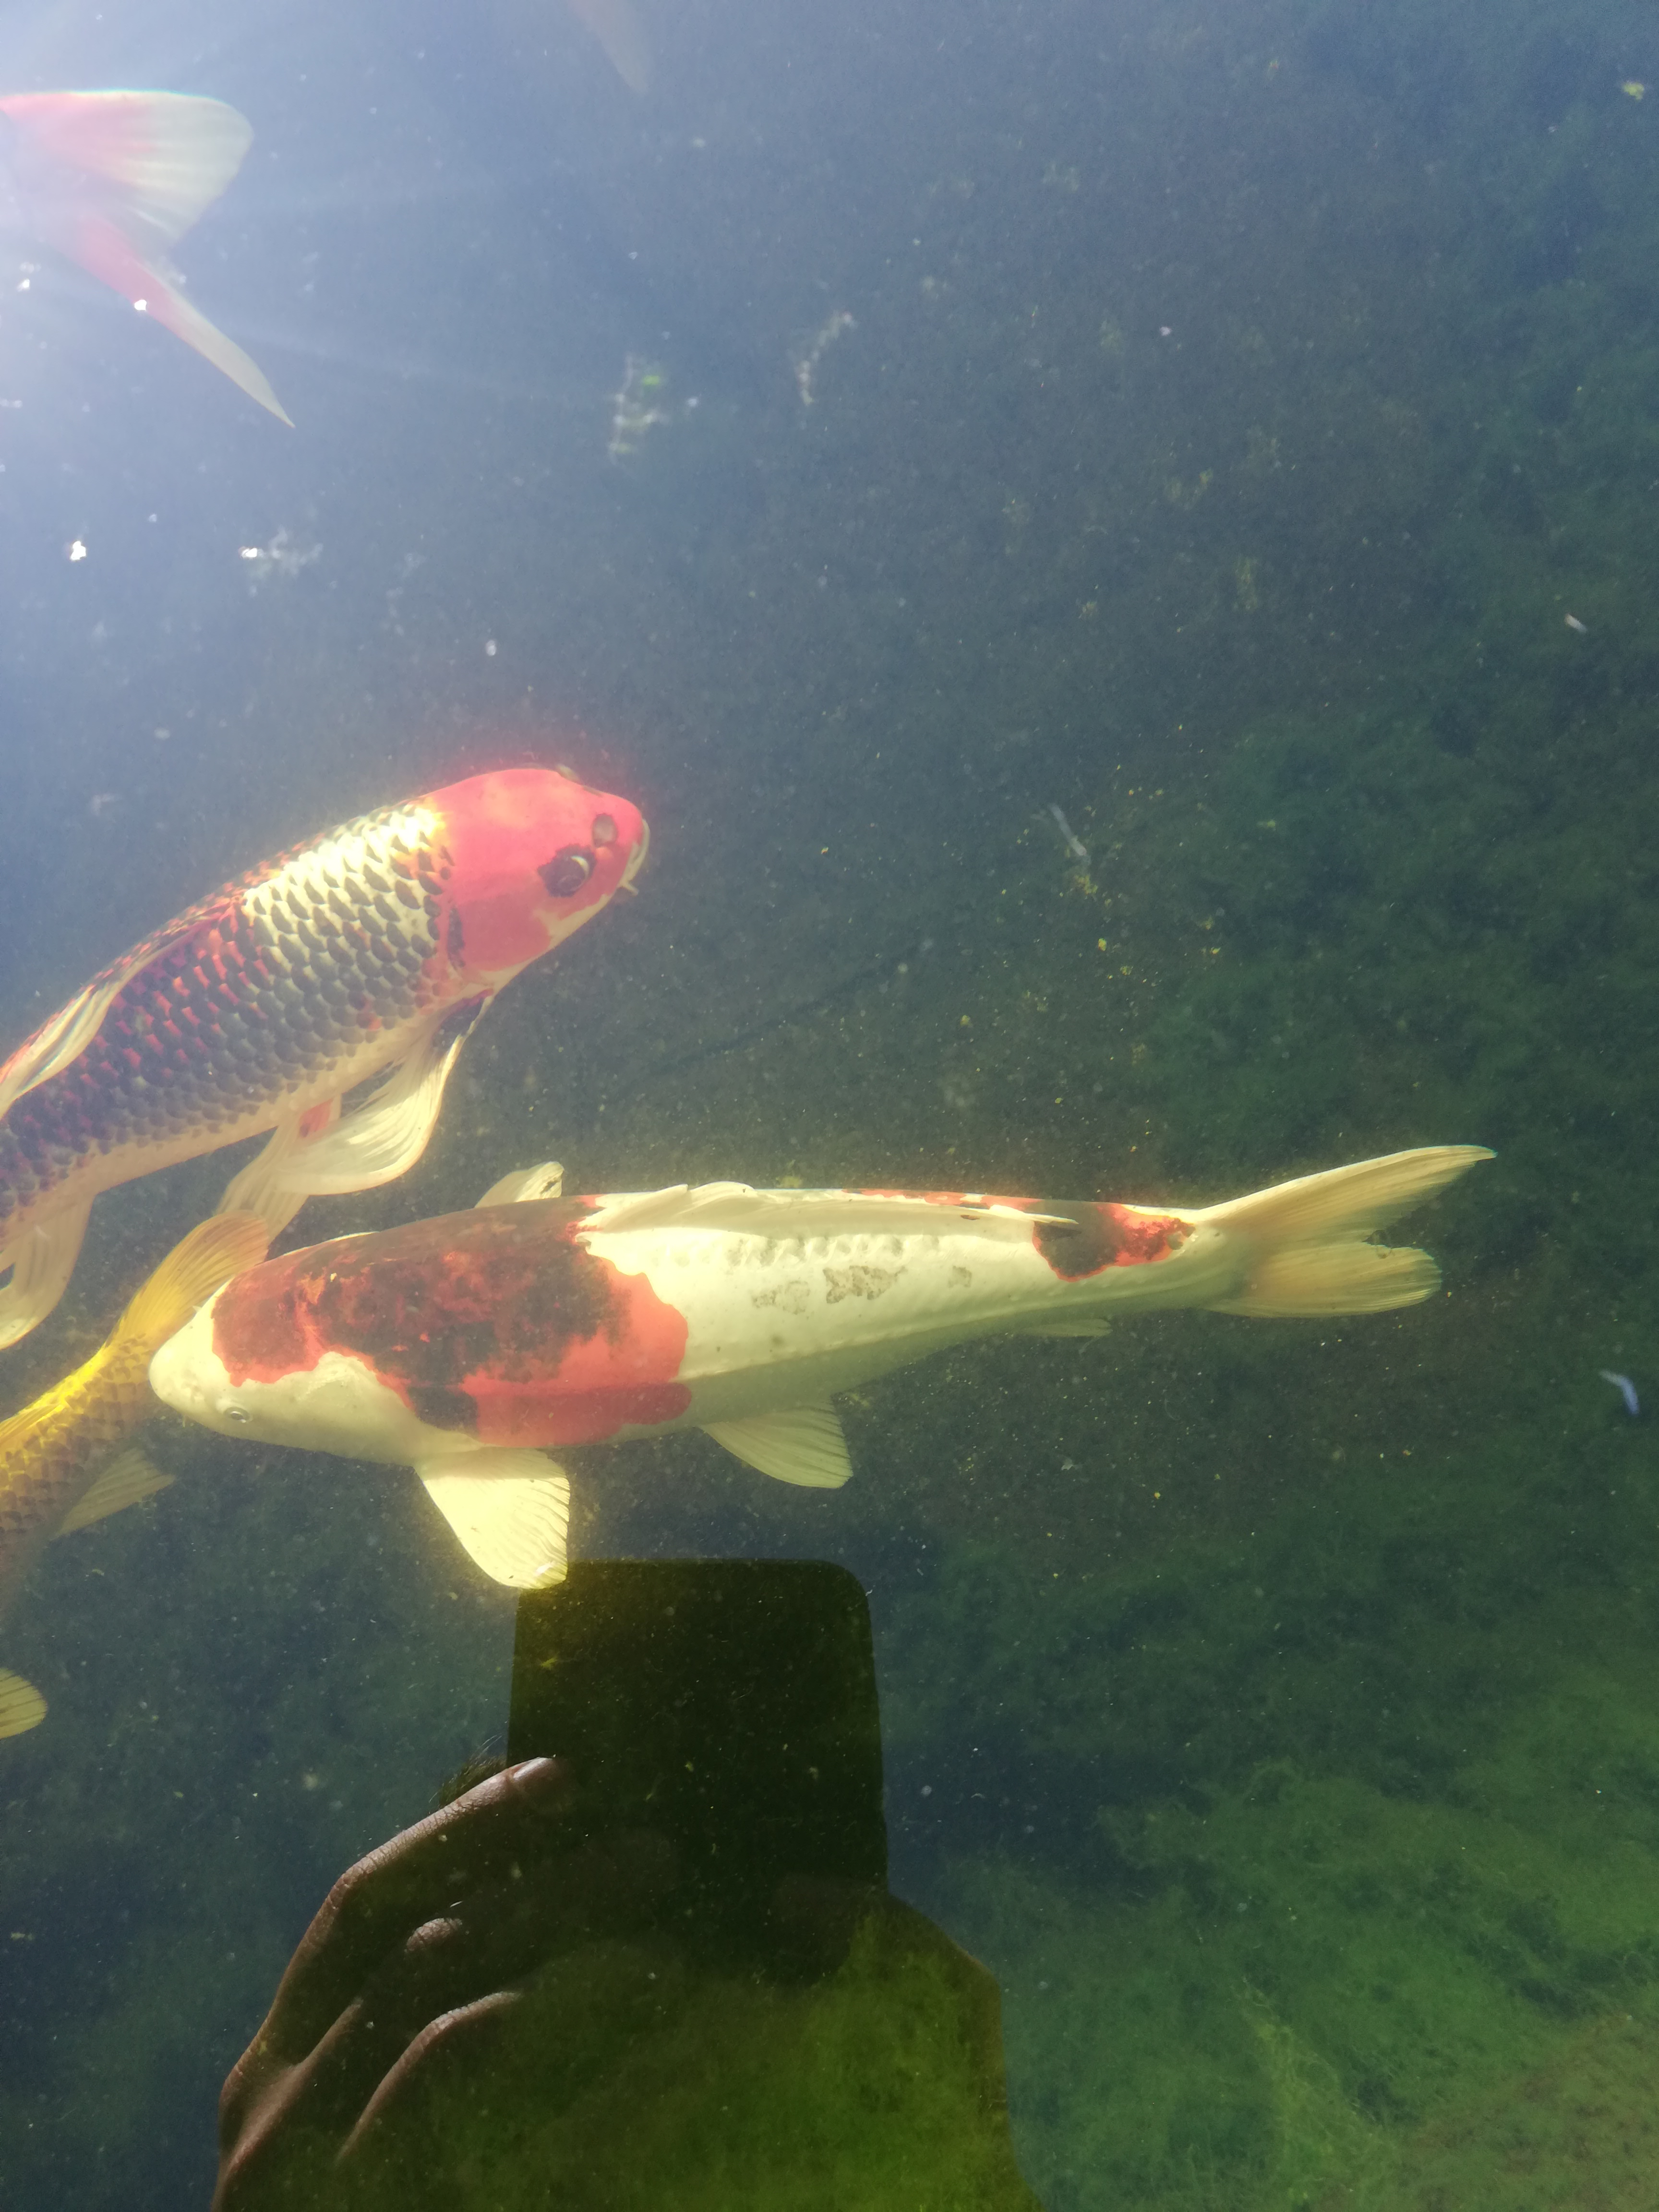Wallie: (139, 1066, 1506, 1606)
